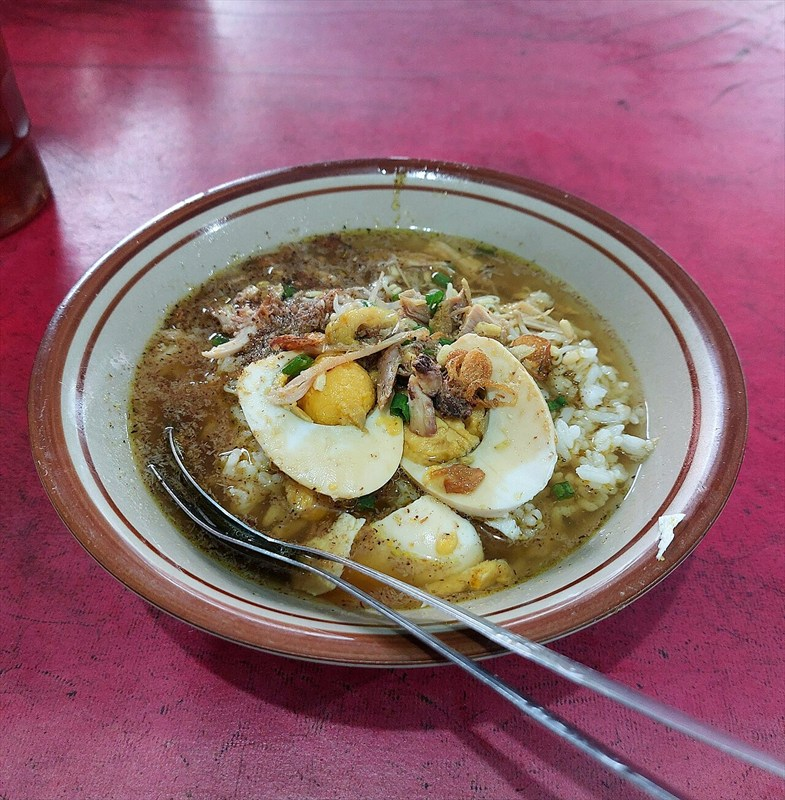Soto Ayam: (66, 165, 714, 681)
